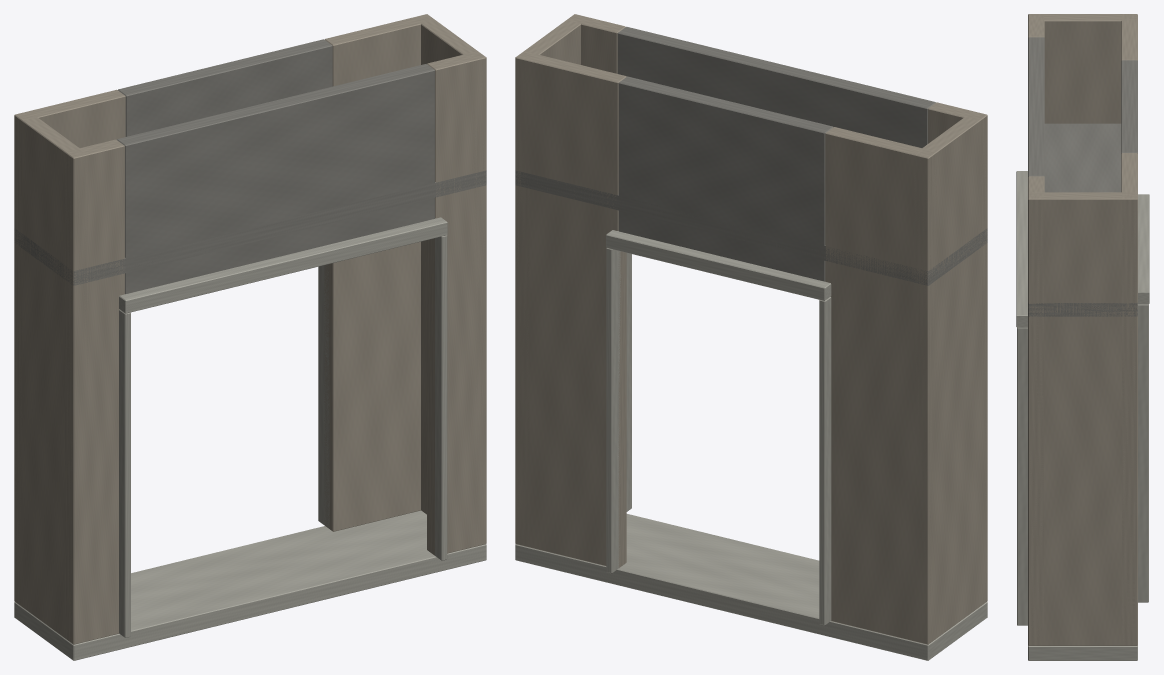
Rendered from A03_PassageAdapter_visual.glb.
3 renders of one model, left to right at view 1: azimuth 30°, elevation 25°; view 2: azimuth 150°, elevation 25°; view 3: azimuth 270°, elevation 25°, orthographic. The views are drawn at different scales.
Visible parts, largest first — view 1: A03_PassageAdapter__VIS_shell, A03_PassageAdapter__VIS_roof; view 2: A03_PassageAdapter__VIS_shell, A03_PassageAdapter__VIS_roof; view 3: A03_PassageAdapter__VIS_shell, A03_PassageAdapter__VIS_roof.
Part boxes in pixels (x1,y1,x2,y2): A03_PassageAdapter__VIS_shell: [14, 14, 486, 660]; A03_PassageAdapter__VIS_roof: [14, 170, 486, 285]; A03_PassageAdapter__VIS_shell: [515, 14, 987, 660]; A03_PassageAdapter__VIS_roof: [515, 170, 987, 285]; A03_PassageAdapter__VIS_shell: [1016, 14, 1149, 660]; A03_PassageAdapter__VIS_roof: [1028, 123, 1137, 316].
Size of the model in its own units: 16 by 18.6 by 4.86.
Materials: 1 (1 with a texture image).
